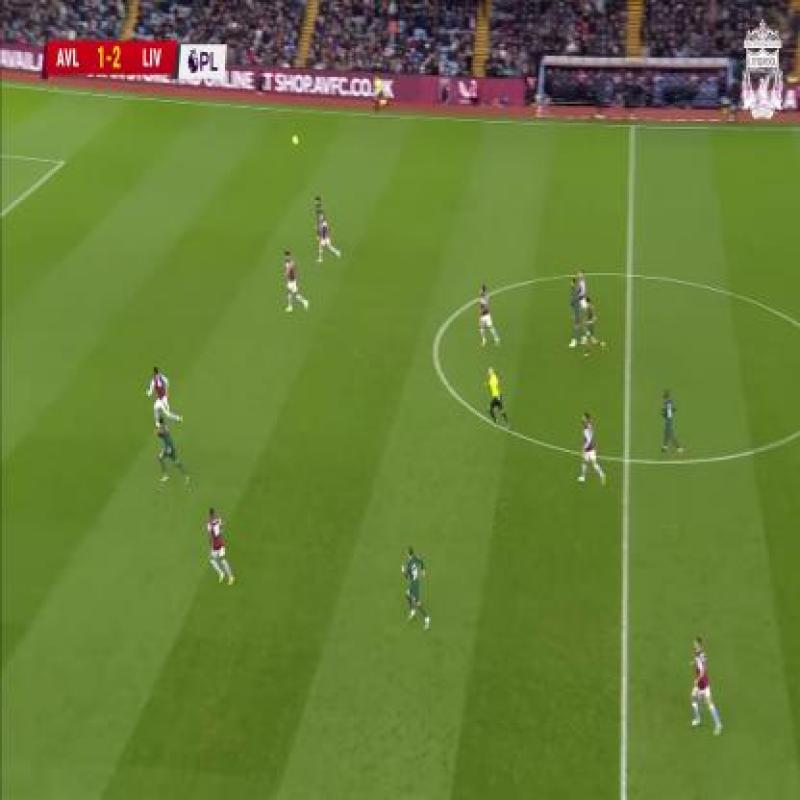13: (621, 108, 646, 146)
14: (619, 260, 640, 290)
15: (615, 438, 638, 478)
9: (54, 152, 72, 173)
c: (408, 324, 461, 372)
